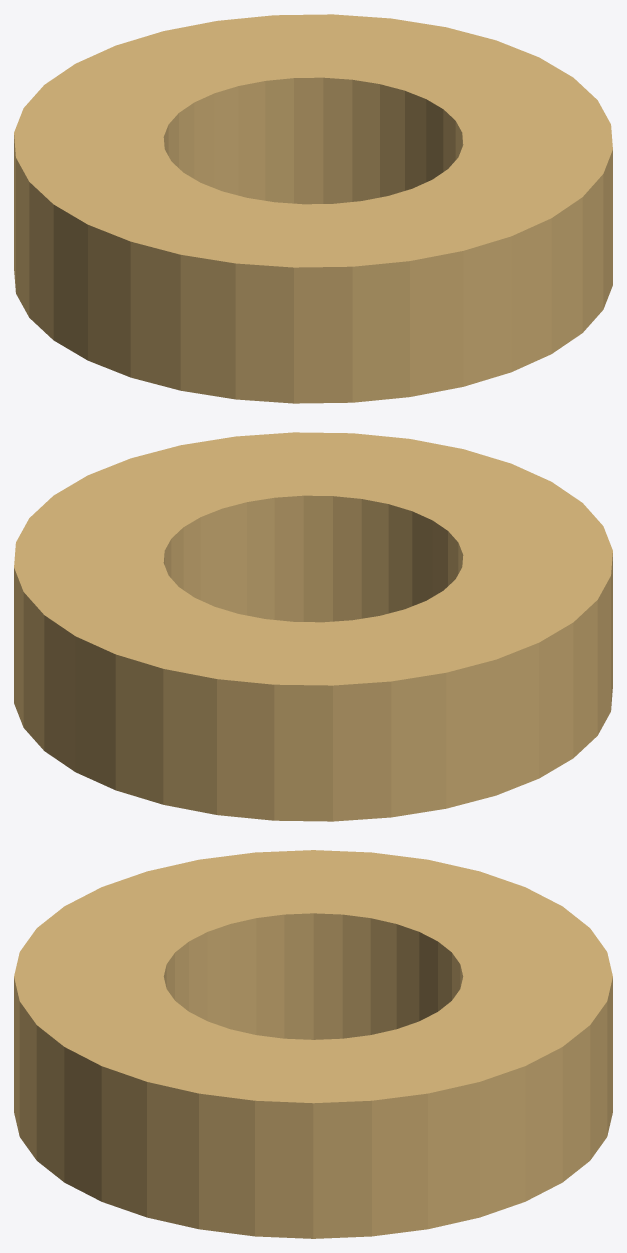
The model's file is Arc01.glb.
3 views of the same model, one above another, from view 1: azimuth 30°, elevation 25°; view 2: azimuth 150°, elevation 25°; view 3: azimuth 270°, elevation 25° (orthographic).
Parts seen in each view (by area): view 1: Arc.01; view 2: Arc.01; view 3: Arc.01.
Boxes of the visible parts, x1,y1,x2,y2 form: Arc.01: [14, 14, 612, 403]; Arc.01: [14, 432, 612, 821]; Arc.01: [14, 850, 612, 1238].
Size of the model in its own units: 4 by 1 by 4.
